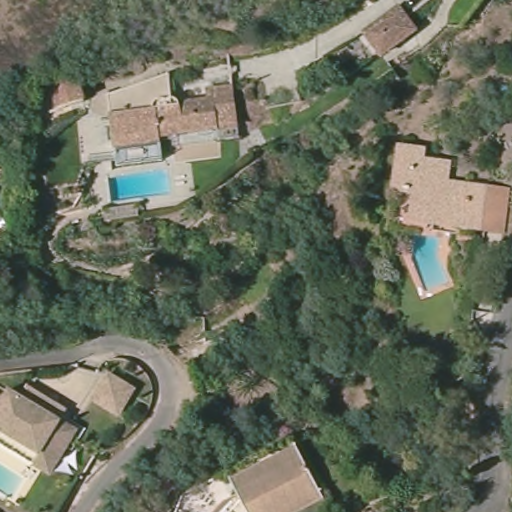pool: (405, 233, 453, 295), (107, 168, 173, 204), (1, 457, 28, 502)
